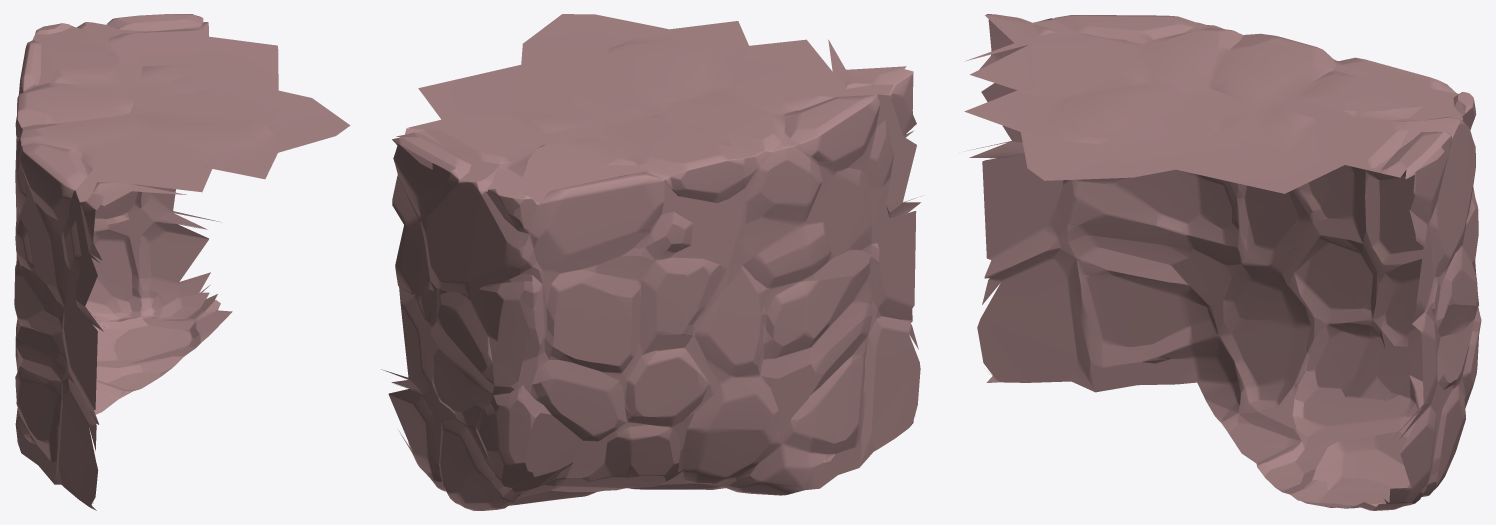
Rendered from pleateauArea1.fbx_PolyShape__46_LODs.fbx.
3 views of the same model, side by side, from view 1: azimuth 30°, elevation 25°; view 2: azimuth 150°, elevation 25°; view 3: azimuth 270°, elevation 25° (orthographic). The views are drawn at different scales.
Parts seen in each view (by area): view 1: PolyShape (46)_LOD0; view 2: PolyShape (46)_LOD0; view 3: PolyShape (46)_LOD0.
Boxes of the visible parts, x1,y1,x2,y2 form: PolyShape (46)_LOD0: (14, 14, 350, 510); PolyShape (46)_LOD0: (381, 14, 920, 510); PolyShape (46)_LOD0: (964, 14, 1481, 510).
Size of what is drawn, in the model's own units: 4383 by 4287 by 5315.
